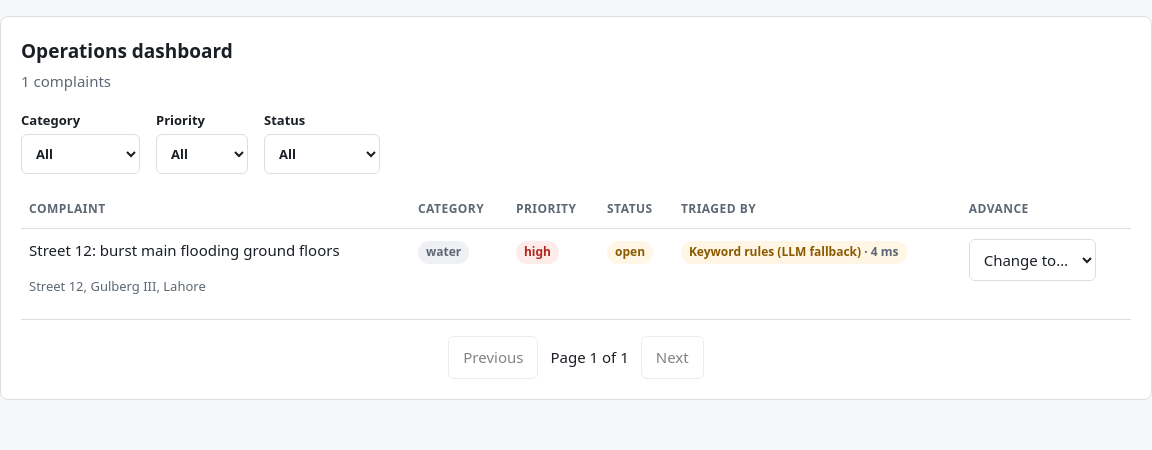
Test: DashboardPage › surfaces the server's 409 message verbatim on an invalid transition
Expected: the text "Street 12: burst main flooding ground floors" is shown, [29,240,340,260]
Select "Resolved" in the dropdown named "change status for" at x=1032, y=260, box [969,239,1096,281]
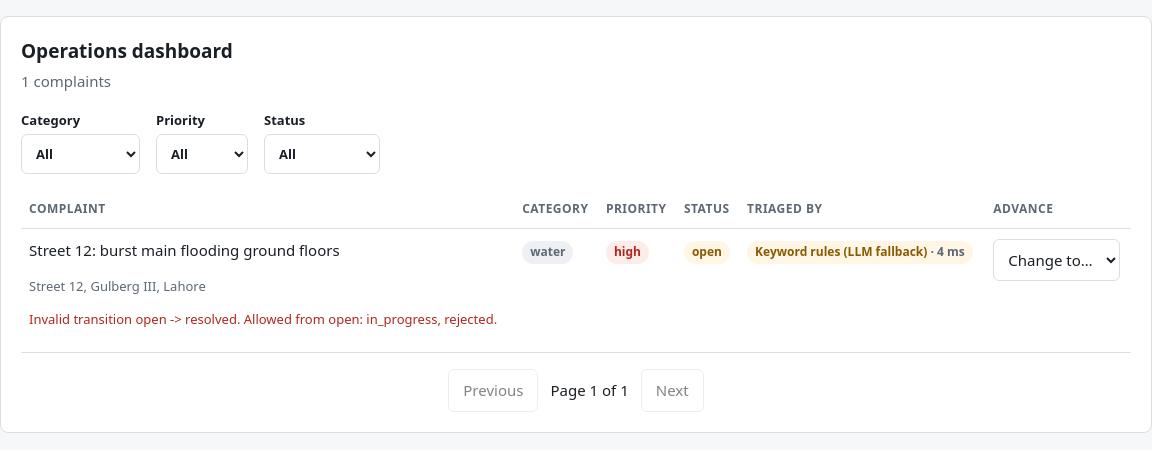
Now the message with test id "transition-error" reads "Invalid transition open -> resolved. Allowed from open: in_progress, rejected.", box [29,310,497,328]
